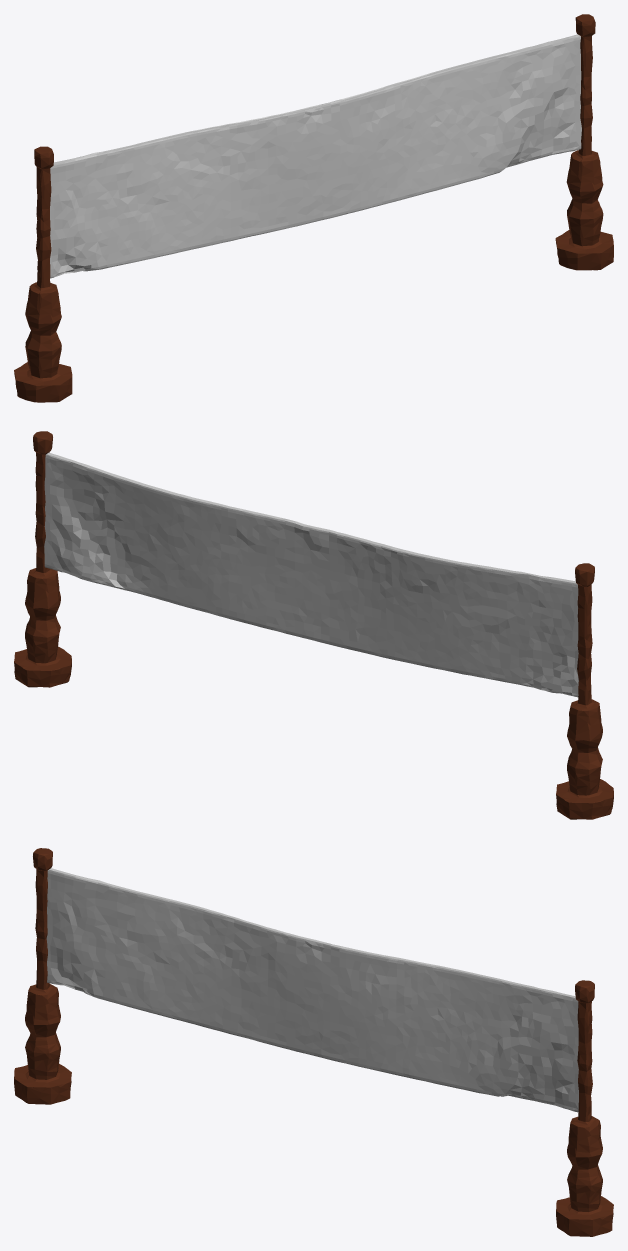
The model's file is DesertLandSnakeFlag0318.obj.
The picture shows the model from 3 angles, top to bottom: view 1: azimuth 30°, elevation 25°; view 2: azimuth 150°, elevation 25°; view 3: azimuth 330°, elevation 25°; orthographic projection.
Visible parts, largest first — view 1: Cube.003, Cube, Cube.002; view 2: Cube.003, Cube, Cube.002; view 3: Cube.003, Cube.002, Cube.
Part boxes in pixels (x1,y1,x2,y2): Cube.003: [50, 34, 581, 278]; Cube: [14, 146, 72, 402]; Cube.002: [555, 14, 613, 270]; Cube.003: [44, 452, 578, 697]; Cube: [556, 563, 613, 819]; Cube.002: [14, 431, 71, 687]; Cube.003: [46, 868, 578, 1112]; Cube.002: [556, 980, 613, 1236]; Cube: [14, 848, 71, 1104].
Bounding box in the file's own units: 27.57 × 10.7 × 2.57.
